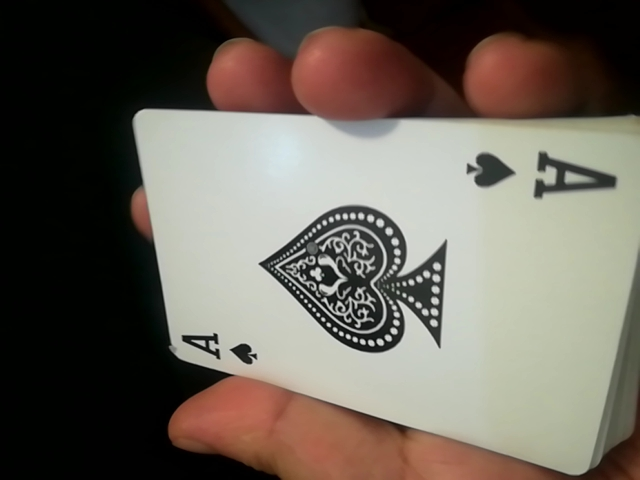ht a: (100, 120, 636, 473)
